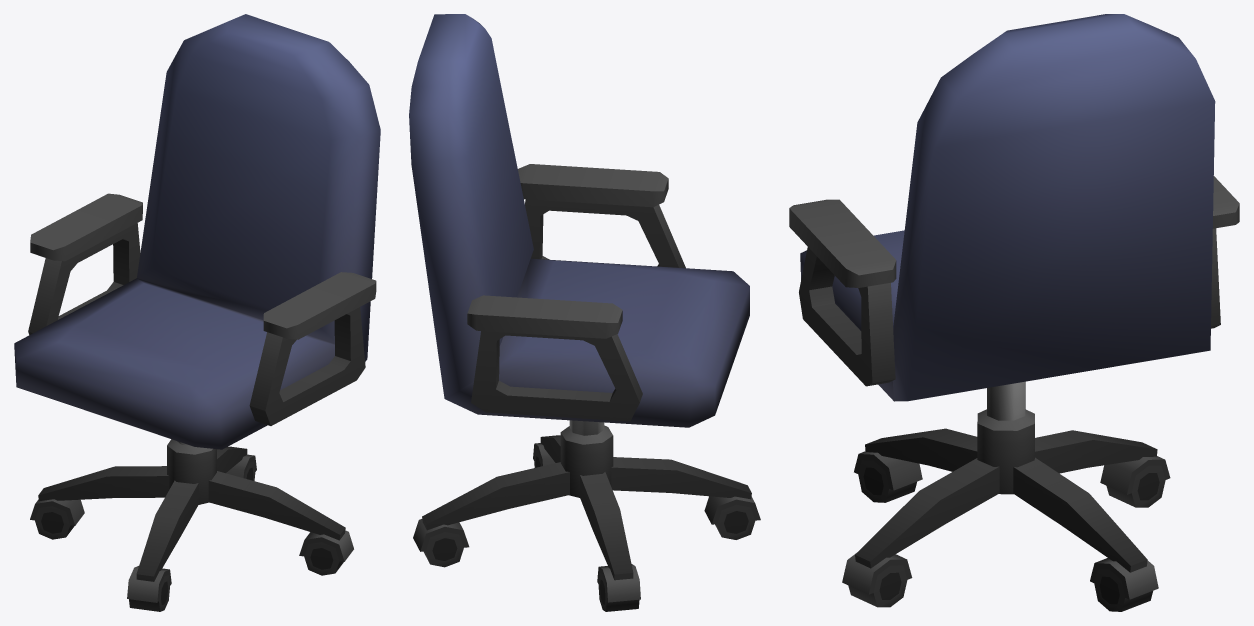
The model's file is CR_TDeskChair.FBX.
3 renders of one model, left to right at view 1: azimuth 30°, elevation 25°; view 2: azimuth 150°, elevation 25°; view 3: azimuth 270°, elevation 25°, orthographic. The views are drawn at different scales.
Parts seen in each view (by area): view 1: CR_TDeskChair; view 2: CR_TDeskChair; view 3: CR_TDeskChair.
Part boxes in pixels (left/top/right/bottom): CR_TDeskChair: left=14, top=14, right=380, bottom=611; CR_TDeskChair: left=409, top=14, right=760, bottom=611; CR_TDeskChair: left=789, top=14, right=1239, bottom=611.
Bounding box in the file's own units: 56.5 × 83.13 × 57.77.
Materials: 1 (1 with a texture image).
